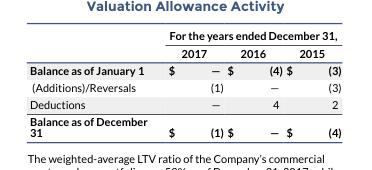table: (28, 28, 340, 138)
table column: (28, 28, 157, 138), (157, 28, 224, 138), (224, 28, 283, 138), (283, 28, 340, 138)
table column header: (28, 28, 340, 60)
table row: (28, 112, 340, 138), (28, 60, 340, 78), (28, 43, 340, 60), (28, 78, 340, 95), (28, 95, 340, 112), (28, 28, 340, 43)
table spanning cell: (157, 28, 340, 43)
